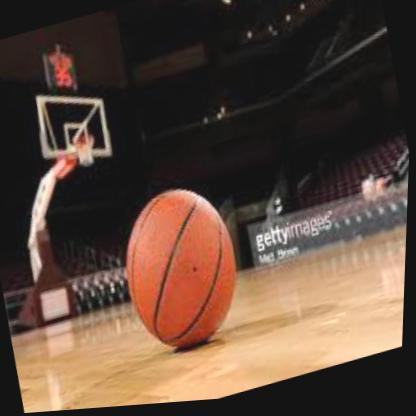basketball: (110, 178, 256, 369)
rim: (73, 132, 97, 148)
